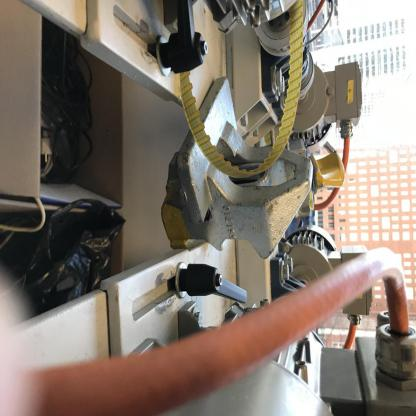Twistlock: (161, 67, 316, 252)
